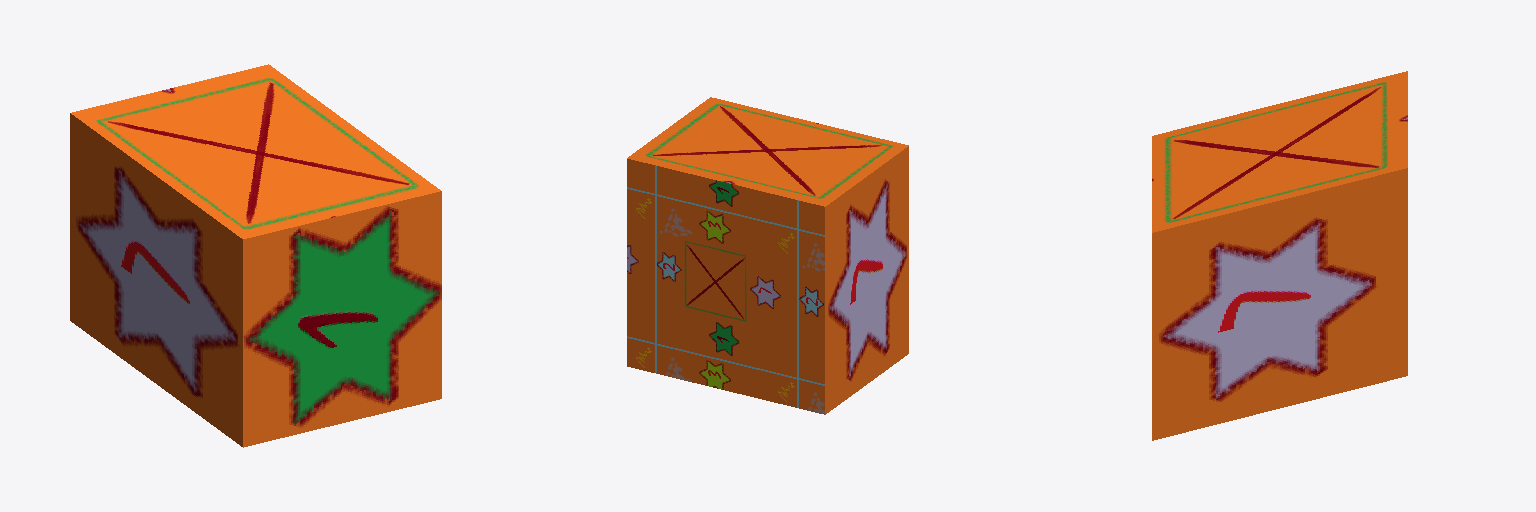
3 views of the same model, side by side, from view 1: azimuth 30°, elevation 25°; view 2: azimuth 150°, elevation 25°; view 3: azimuth 270°, elevation 25° (orthographic).
Visible parts, largest first — view 1: Cube.001; view 2: Cube.001; view 3: Cube.001.
Boxes of the visible parts, box(x1,y1,x2,y2) form: Cube.001: box(70, 64, 441, 447); Cube.001: box(627, 97, 908, 414); Cube.001: box(1152, 71, 1407, 440).
Size of the model in its own units: 2.45 by 2.42 by 2.24.
Materials: 1 (1 with a texture image).